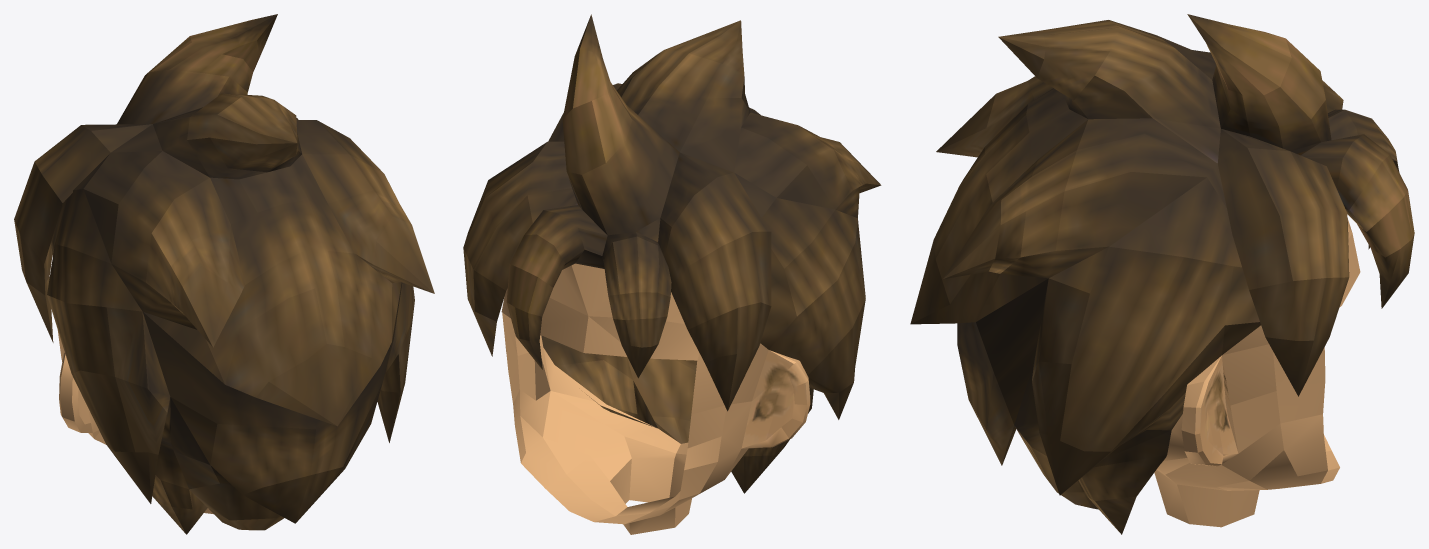
Rendered from Boy_Batch_05.obj.
The picture shows the model from 3 angles, left to right: view 1: azimuth 30°, elevation 25°; view 2: azimuth 150°, elevation 25°; view 3: azimuth 270°, elevation 25°; orthographic projection. The views are drawn at different scales.
Parts seen in each view (by area): view 1: Player.002; view 2: Player.002; view 3: Player.002.
Part boxes in pixels (x1,y1,x2,y2): Player.002: (14,14,434,534); Player.002: (463,14,881,534); Player.002: (910,14,1414,534).
Bounding box in the file's own units: 41.56 × 58.73 × 49.86.
Materials: 1 (1 with a texture image).
